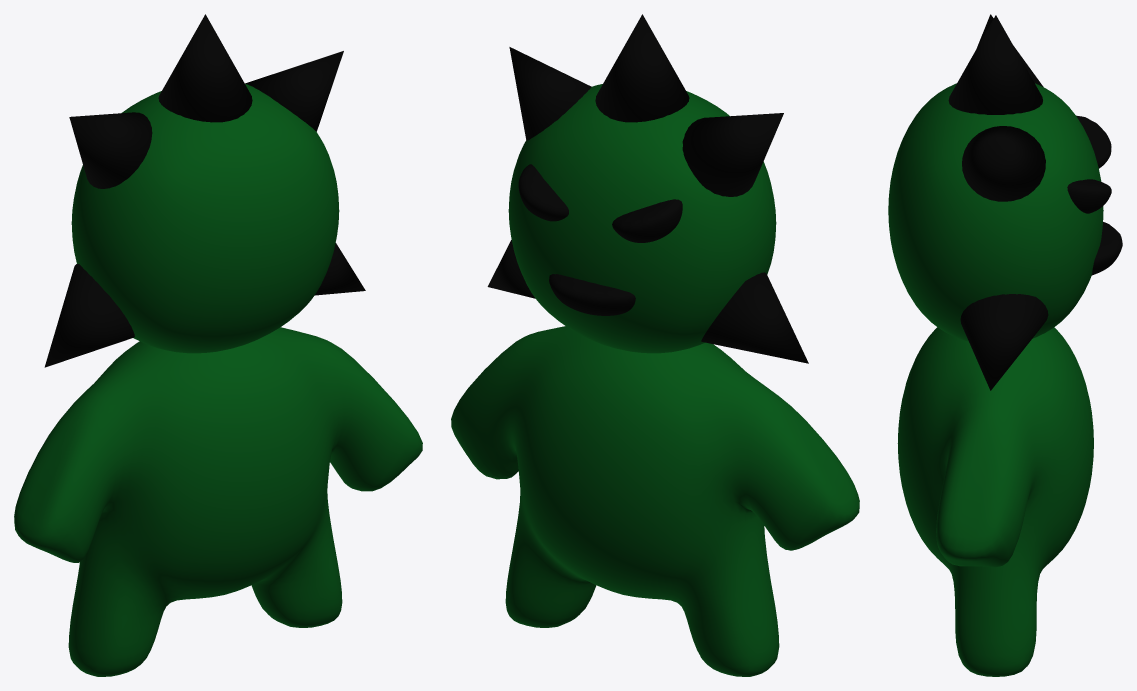
Rendered from anemy.fbx.
The picture shows the model from 3 angles, left to right: view 1: azimuth 30°, elevation 25°; view 2: azimuth 150°, elevation 25°; view 3: azimuth 270°, elevation 25°; orthographic projection. The views are drawn at different scales.
Parts seen in each view (by area): view 1: Cube.001, Cube, Cone, Cone.003, Cone.001, Cone.002, Cone.004; view 2: Cube.001, Cube, Cone.001, Cone, Cone.003, Cone.002, Cube.006, Cube.004, Cube.005, Cone.004; view 3: Cube.001, Cube, Cone, Cone.002, Cone.004, Cube.005, Cube.006, Cube.004.
Boxes of the visible parts, <box> form: Cube.001: <box>14,327,422,676</box>; Cube: <box>71,84,339,353</box>; Cone: <box>158,14,252,122</box>; Cone.003: <box>44,264,134,367</box>; Cone.001: <box>69,112,152,188</box>; Cone.002: <box>245,51,343,131</box>; Cone.004: <box>314,243,365,295</box>; Cube.001: <box>451,326,859,676</box>; Cube: <box>508,84,776,353</box>; Cone.001: <box>682,113,783,196</box>; Cone: <box>595,14,689,122</box>; Cone.003: <box>701,272,808,363</box>; Cone.002: <box>509,47,591,140</box>; Cube.006: <box>549,274,635,315</box>; Cube.004: <box>612,199,682,242</box>; Cube.005: <box>518,164,568,221</box>; Cone.004: <box>487,240,535,298</box>; Cube.001: <box>897,327,1093,676</box>; Cube: <box>888,83,1103,341</box>; Cone: <box>948,15,1042,114</box>; Cone.002: <box>962,126,1045,201</box>; Cone.004: <box>960,294,1048,390</box>; Cube.005: <box>1067,179,1111,213</box>; Cube.006: <box>1091,222,1122,275</box>; Cube.004: <box>1076,115,1111,168</box>.
Bounding box in the file's own units: 186 × 283 × 99.02.
